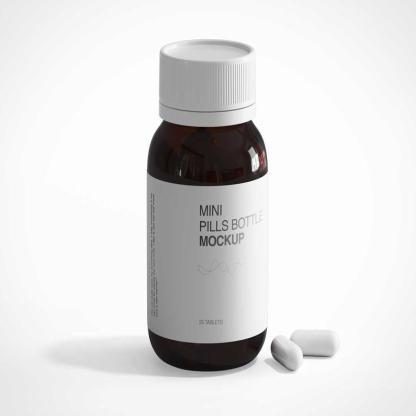jar: (147, 40, 268, 370)
